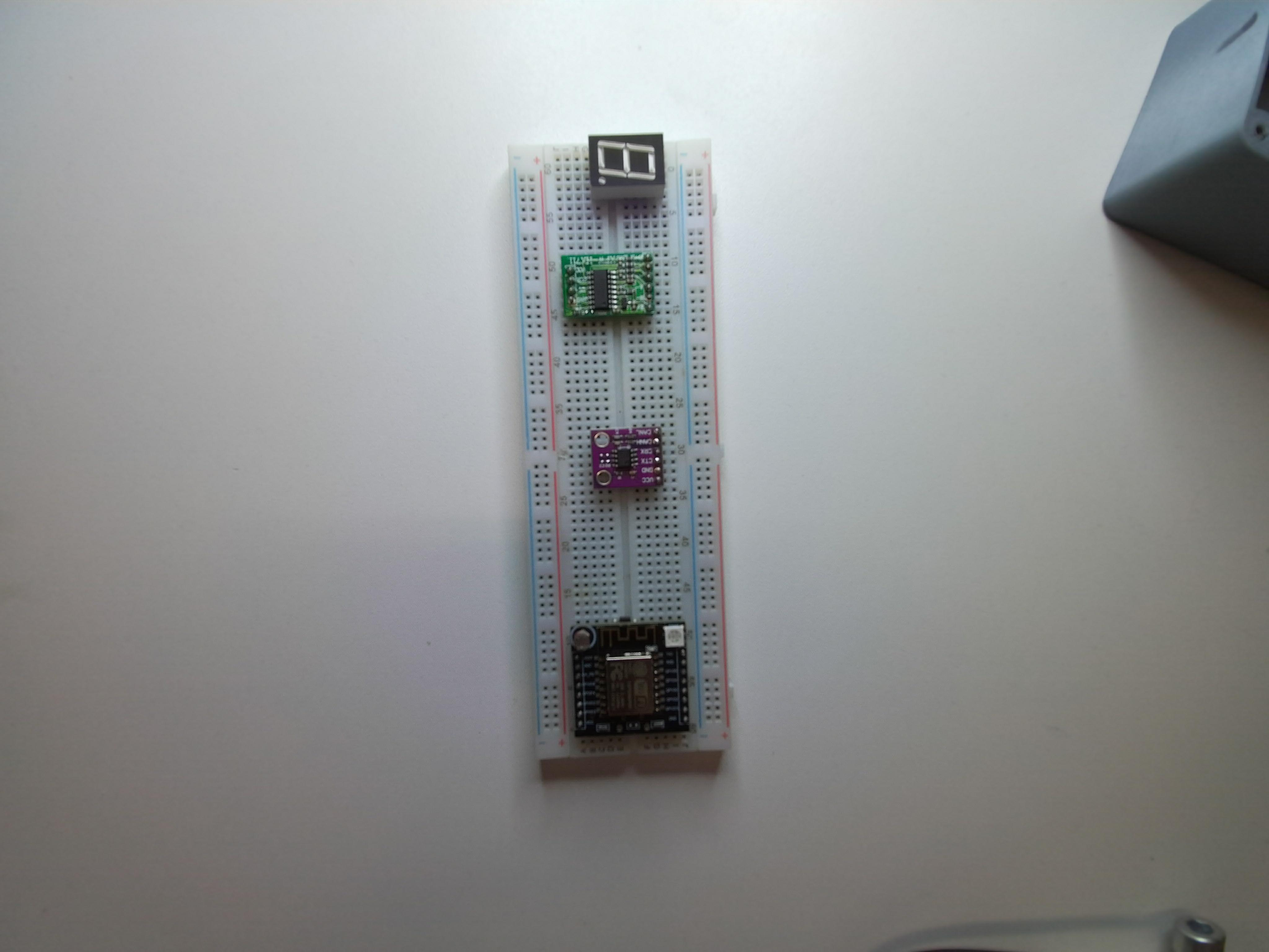base: (505, 129, 723, 773)
digit-board: (586, 130, 667, 206)
esp: (567, 622, 691, 739)
green-board: (559, 248, 659, 324)
purple-board: (588, 425, 663, 496)
